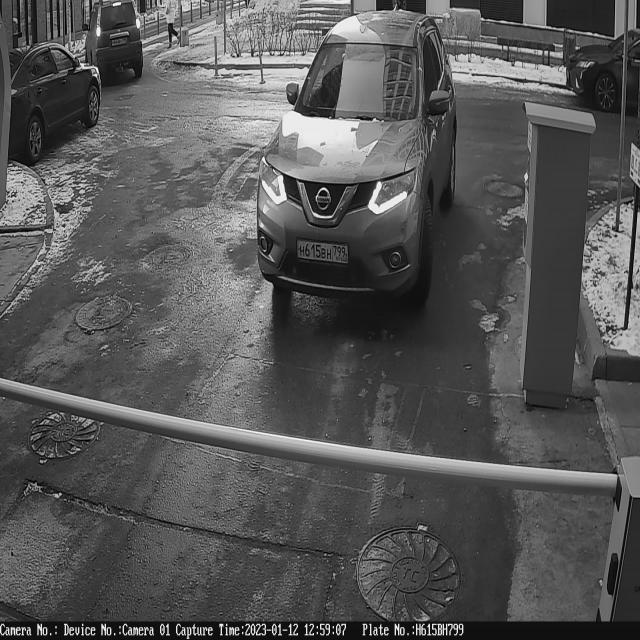car-plate-numbers: (293, 229, 352, 273)
